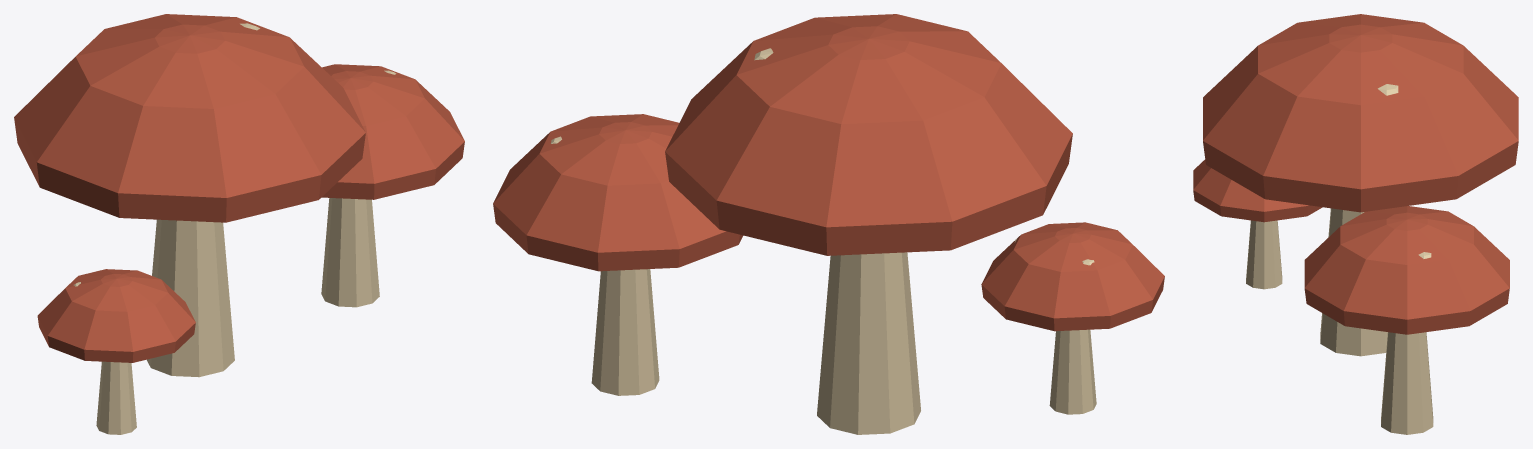
File: Woodland_Mushrooms.glb
The picture shows the model from 3 angles, left to right: view 1: azimuth 30°, elevation 25°; view 2: azimuth 150°, elevation 25°; view 3: azimuth 270°, elevation 25°; orthographic projection. The views are drawn at different scales.
Visible parts, largest first — view 1: Woodland_Mushrooms; view 2: Woodland_Mushrooms; view 3: Woodland_Mushrooms.
Boxes of the visible parts, x1,y1,x2,y2 form: Woodland_Mushrooms: [14, 14, 464, 434]; Woodland_Mushrooms: [493, 14, 1164, 434]; Woodland_Mushrooms: [1193, 14, 1518, 434].
Size of the model in its own units: 1.34 by 0.8663 by 0.843.
